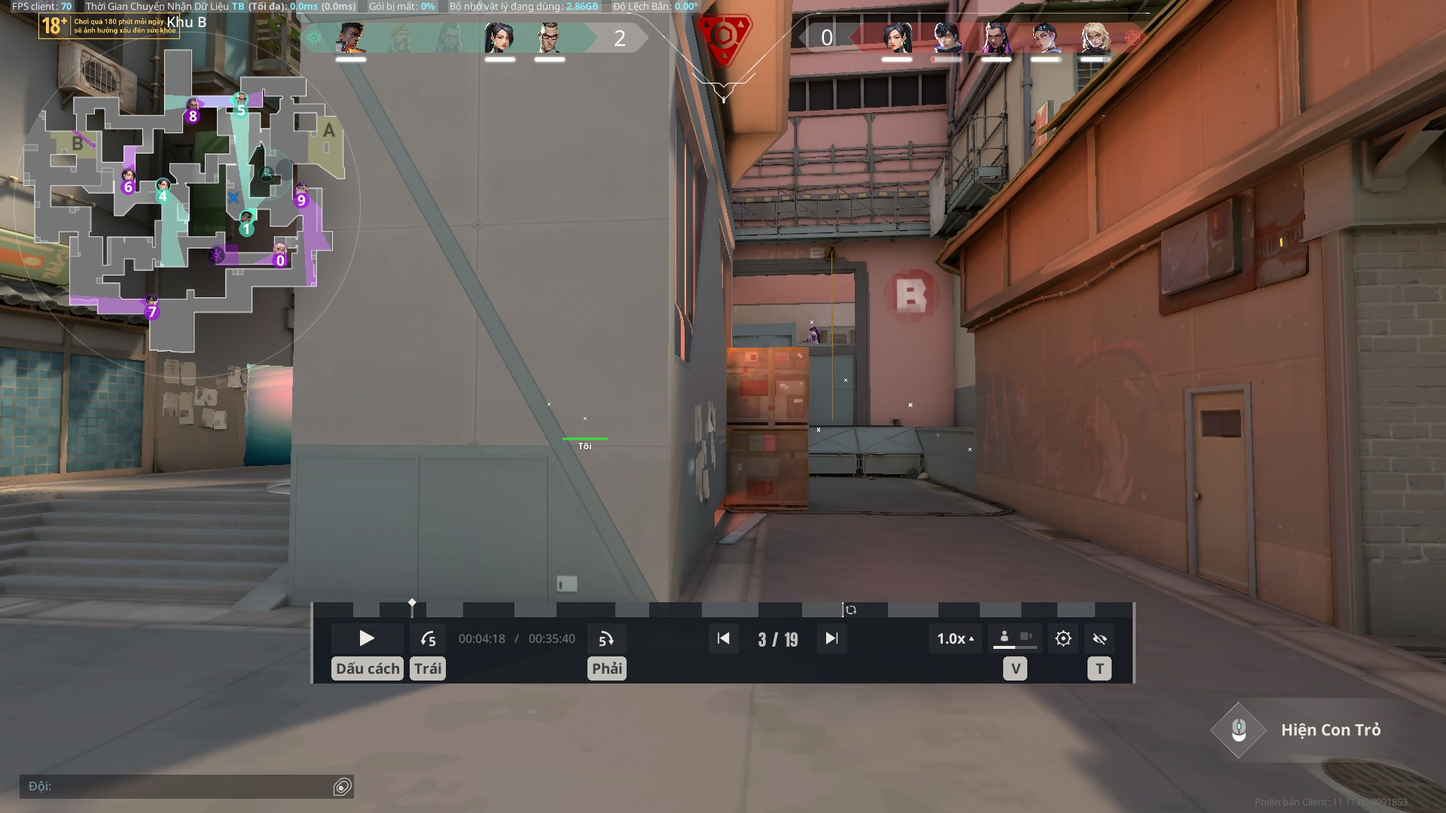body: (807, 330, 818, 343)
head: (809, 327, 814, 331)
